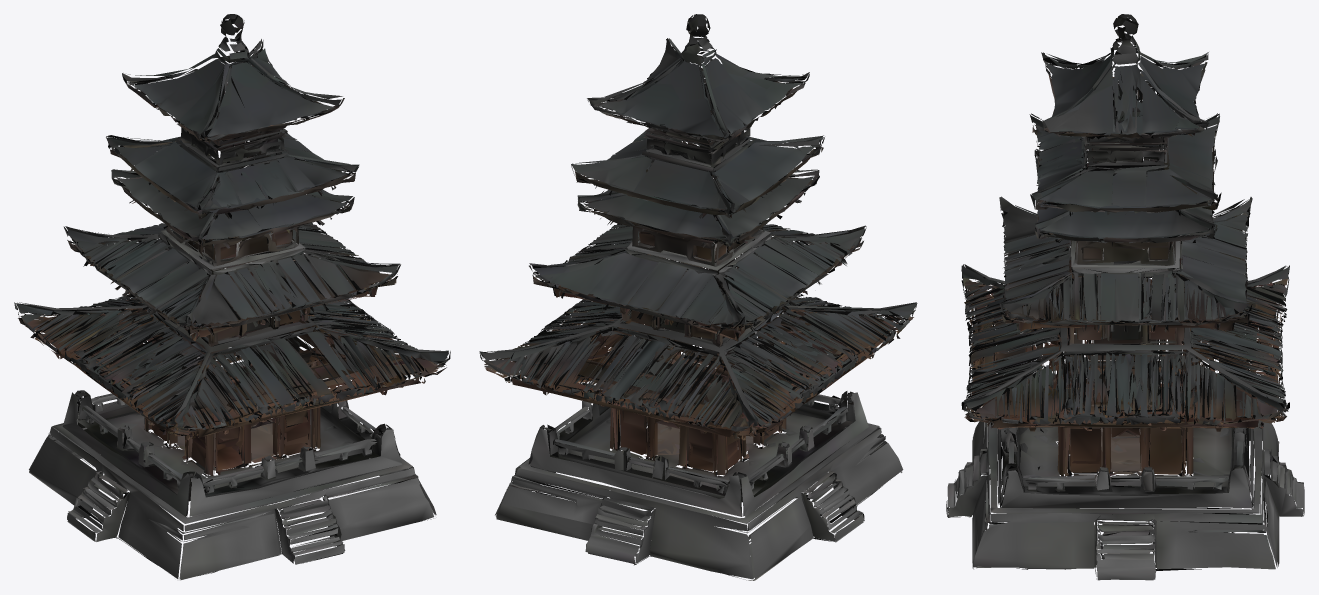
File: calodan-pagoda.glb
The picture shows the model from 3 angles, left to right: view 1: azimuth 30°, elevation 25°; view 2: azimuth 150°, elevation 25°; view 3: azimuth 270°, elevation 25°; orthographic projection. The views are drawn at different scales.
Parts seen in each view (by area): view 1: low; view 2: low; view 3: low.
Part boxes in pixels (x1,y1,x2,y2): low: [14, 14, 450, 580]; low: [479, 14, 917, 580]; low: [946, 14, 1304, 580].
Size of the model in its own units: 0.6639 by 1 by 0.6638.
1 material, 1 textured.
